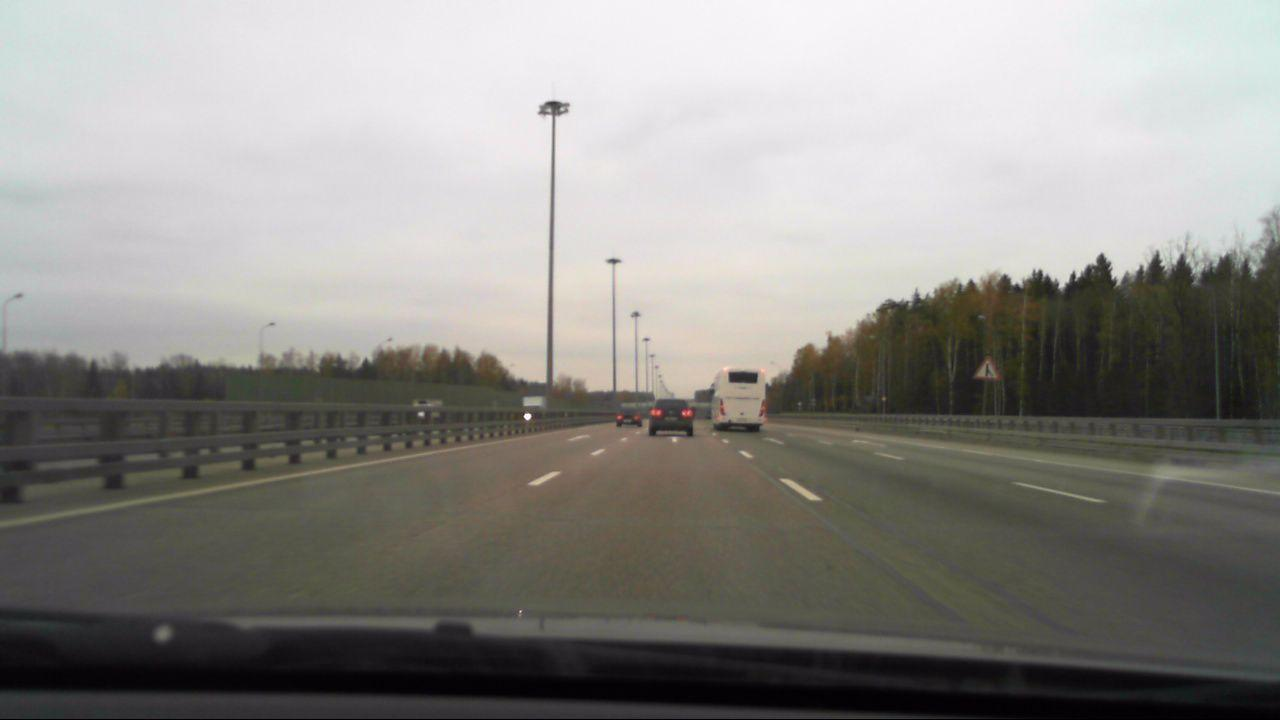2_3_6: (976, 356, 1001, 380)
